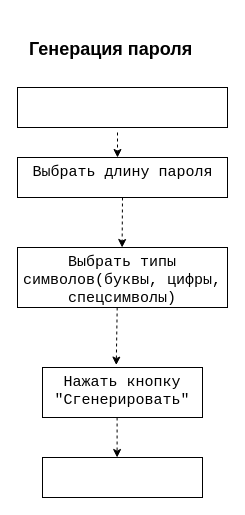
The diagram is 245 pixels wide and 515 high, and some of its shapes have lost their labels. Here are the shapes that lost their labels. From the top down, the box of each, then its label:
(16, 86, 228, 128): Открыть генератор
(42, 456, 202, 498): Пароль создан
